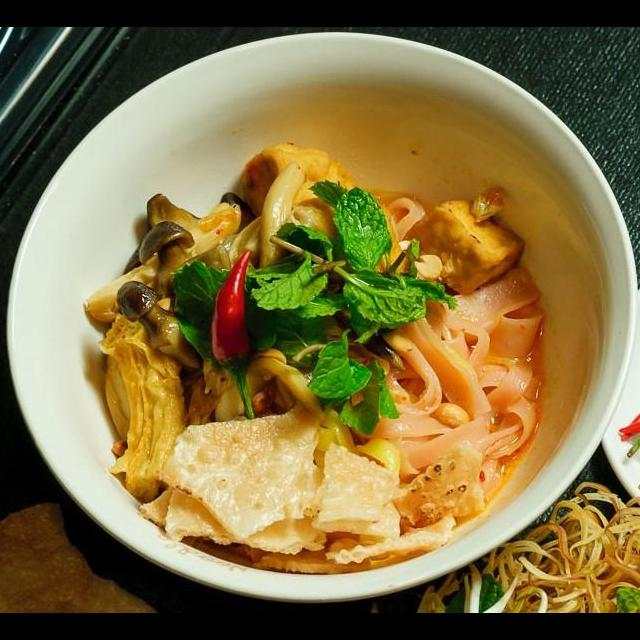banh da: (155, 395, 331, 560), (308, 437, 405, 545), (388, 438, 490, 534), (321, 510, 460, 577)
dau hu: (236, 138, 363, 257), (396, 194, 529, 301)
mi: (342, 261, 547, 505), (208, 344, 404, 482)
